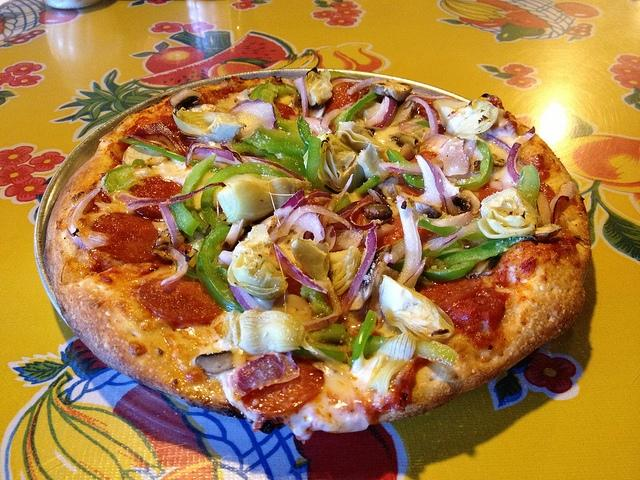bell pepper: (200, 162, 288, 231), (419, 235, 538, 281), (386, 142, 494, 188), (196, 224, 246, 313), (119, 138, 222, 172), (181, 154, 216, 232), (240, 118, 308, 158), (232, 142, 306, 177), (248, 79, 302, 120), (334, 86, 379, 132), (292, 324, 346, 361), (418, 219, 500, 243), (350, 310, 378, 366), (101, 158, 146, 192), (168, 193, 200, 237), (300, 285, 334, 318), (516, 164, 540, 210), (306, 136, 322, 182), (356, 174, 380, 198), (364, 336, 386, 360), (298, 115, 312, 149), (415, 120, 430, 129)
